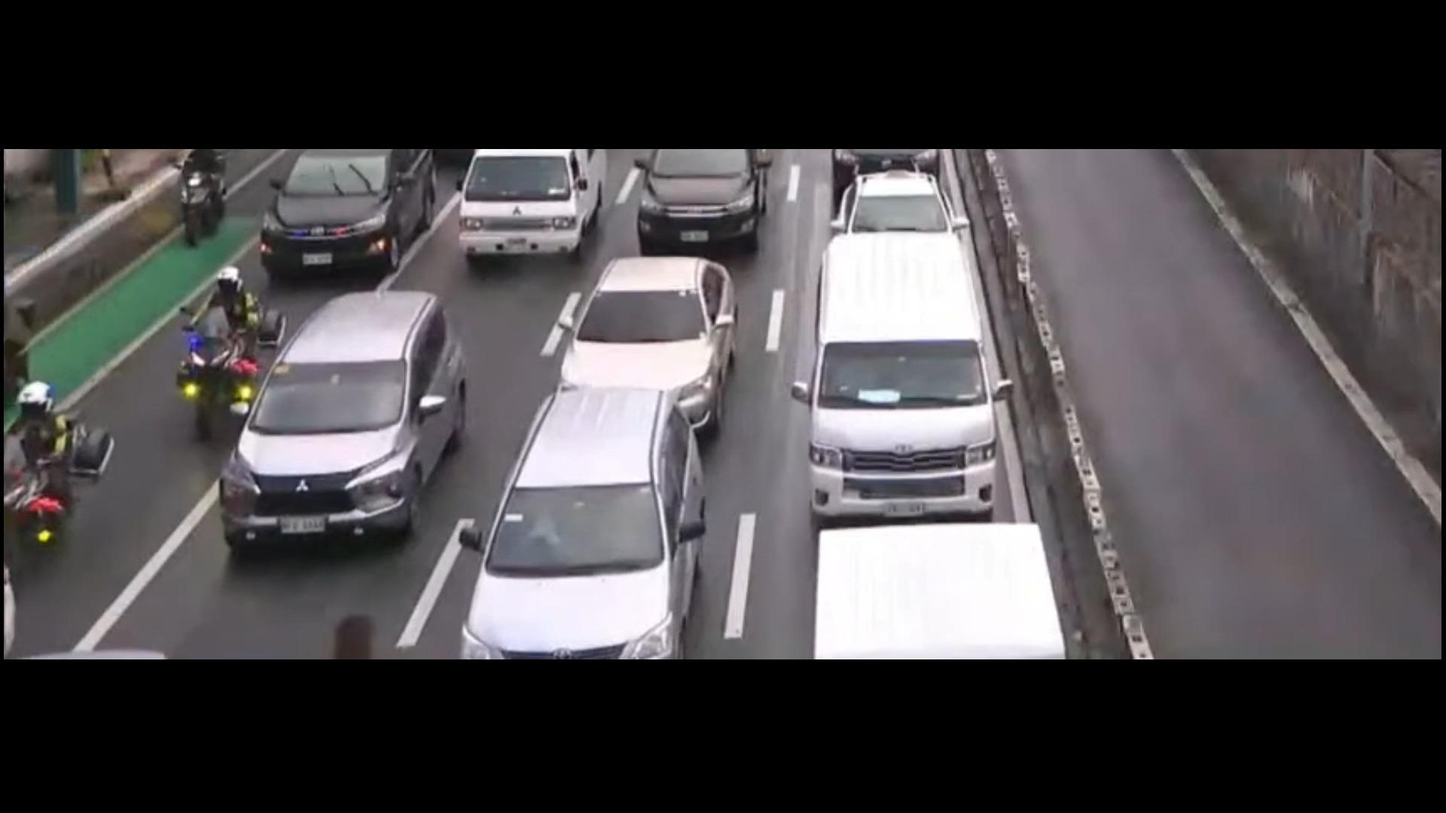Motorcycle: (178, 265, 287, 449), (4, 381, 114, 563), (166, 149, 230, 248)
Multicab: (455, 151, 611, 263)
SUV: (460, 384, 703, 662), (219, 289, 471, 550), (257, 150, 441, 273), (640, 150, 773, 259)
Sedan: (555, 254, 741, 440), (831, 174, 972, 253)
Van: (803, 228, 995, 528)
